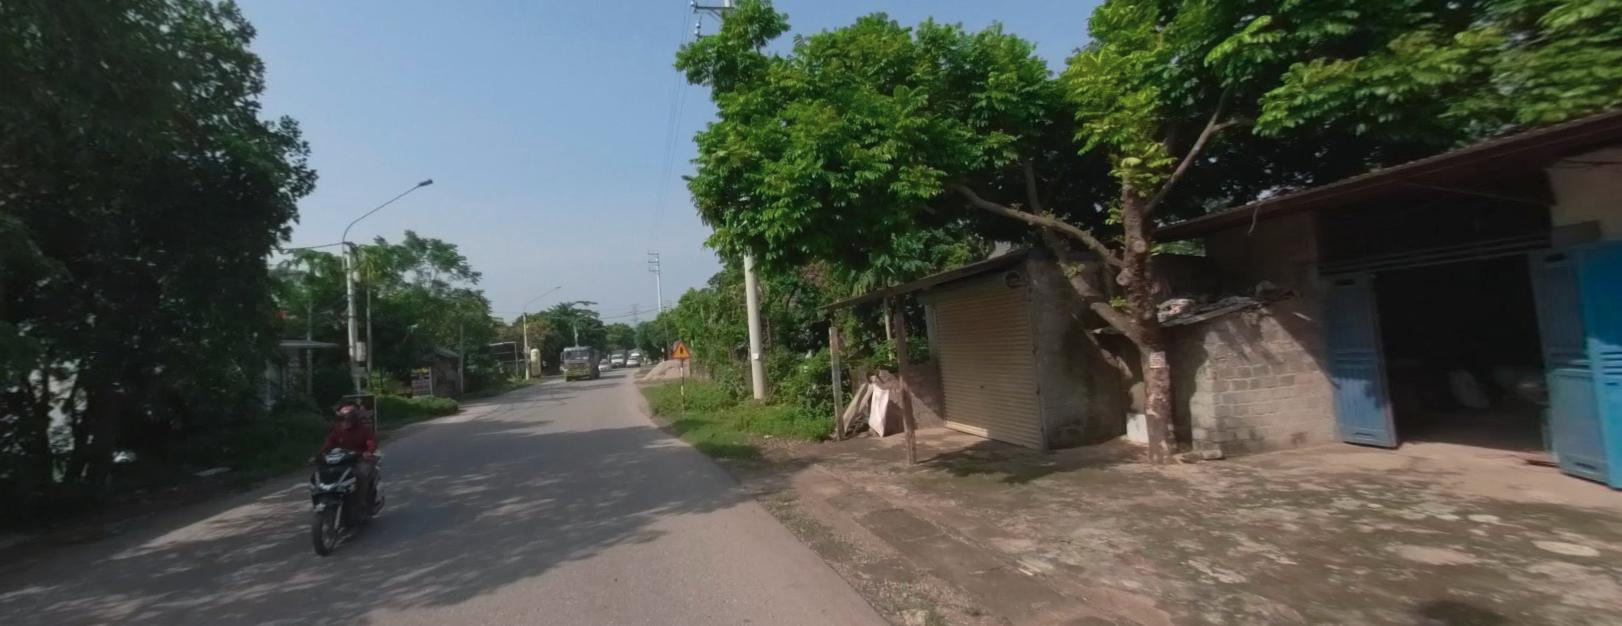Nguy hiem: (669, 340, 694, 362)
